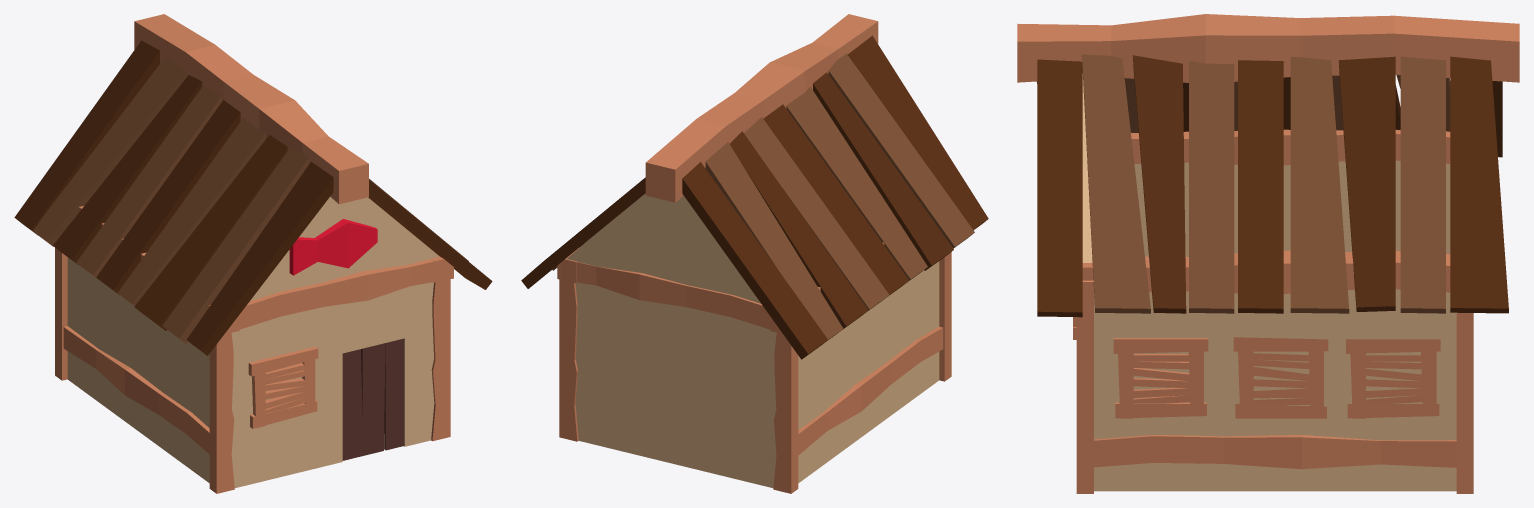
The model's file is Fish shop.fbx.
The picture shows the model from 3 angles, left to right: view 1: azimuth 30°, elevation 25°; view 2: azimuth 150°, elevation 25°; view 3: azimuth 270°, elevation 25°; orthographic projection. The views are drawn at different scales.
Visible parts, largest first — view 1: Cube.074; view 2: Cube.074; view 3: Cube.074.
Part boxes in pixels (box(x1,y1,x2,y2)): Cube.074: box(14, 14, 492, 493); Cube.074: box(521, 14, 988, 493); Cube.074: box(1017, 14, 1519, 493).
Size of the model in its own units: 983 by 1043 by 1196.
